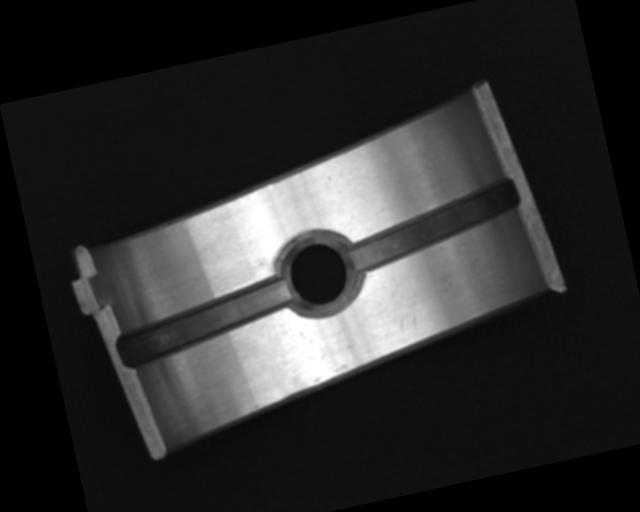gap: (340, 176, 526, 276), (110, 273, 300, 370)
hole: (276, 227, 365, 323)
